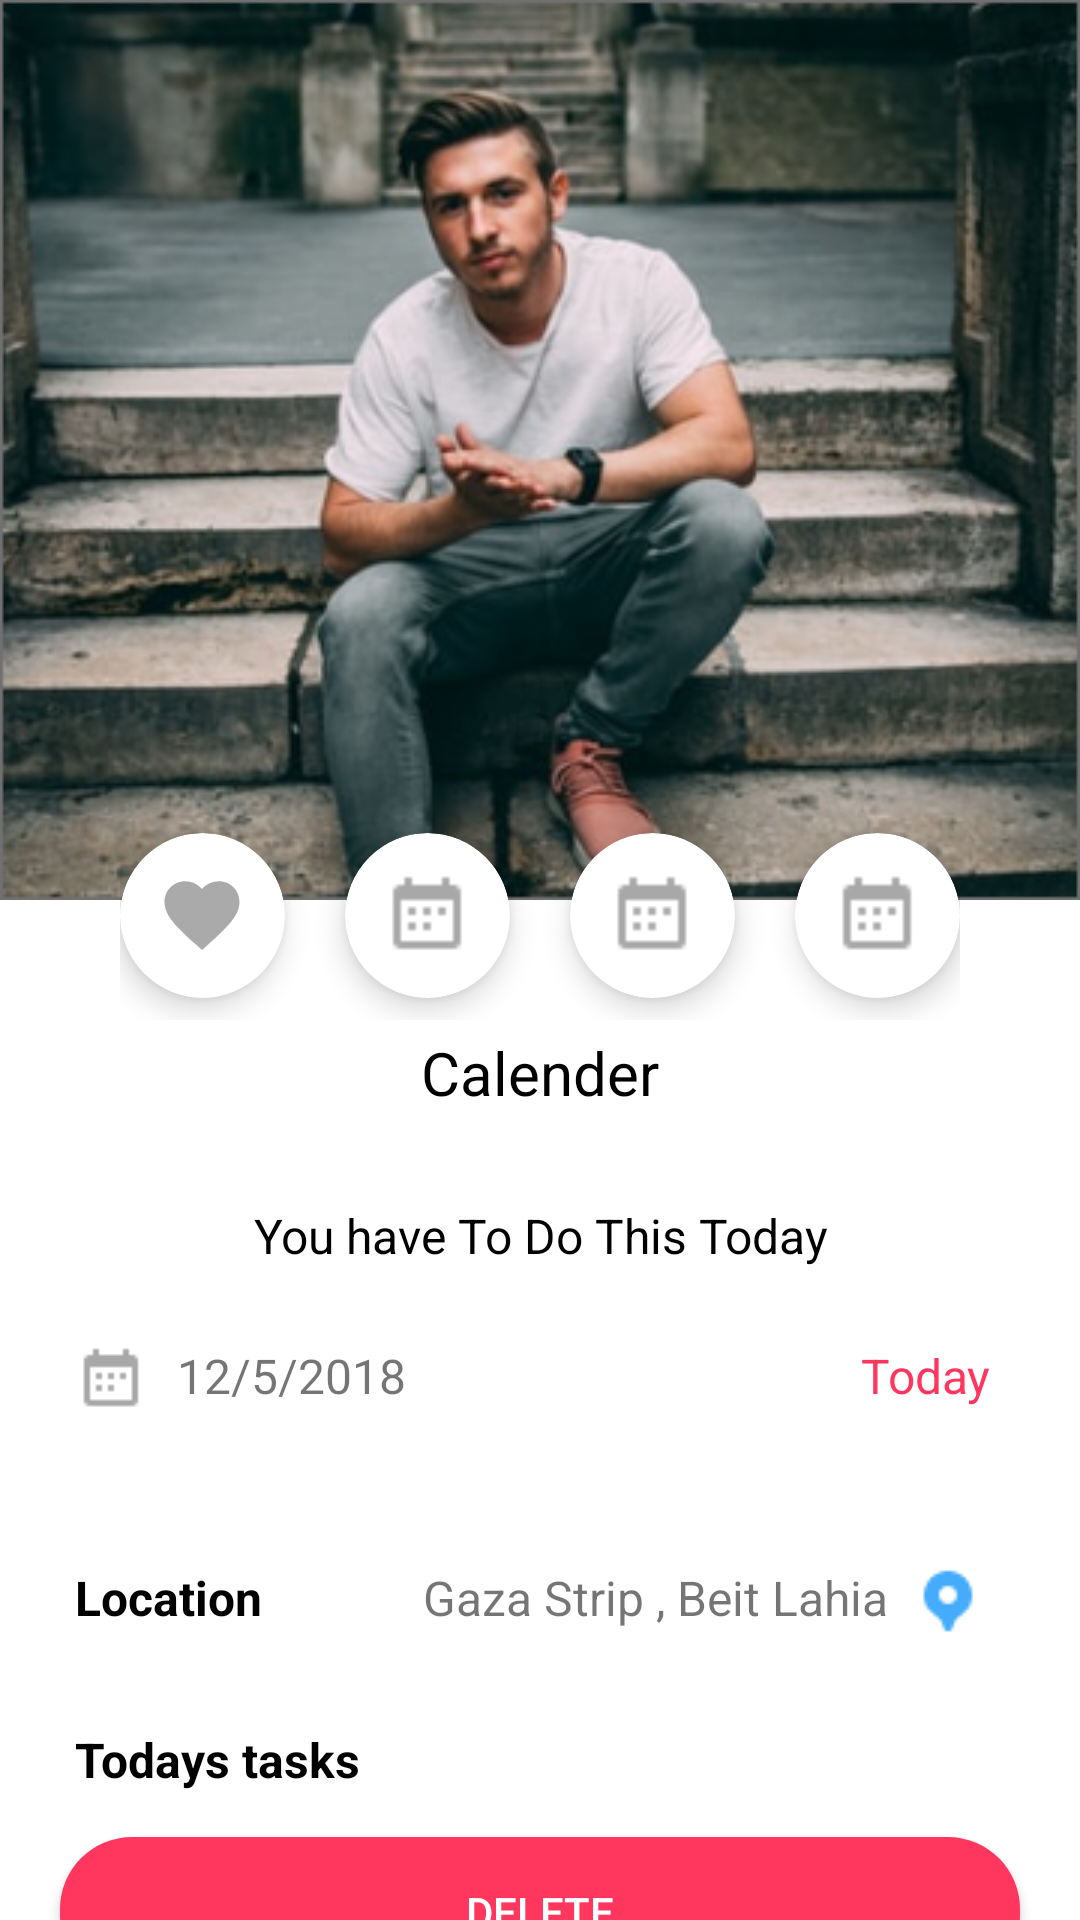

Where to tap for icons on this 1080w x 1920h app screen, as point (x, y):
favorite: point (202, 915)
location: point (948, 1601)
